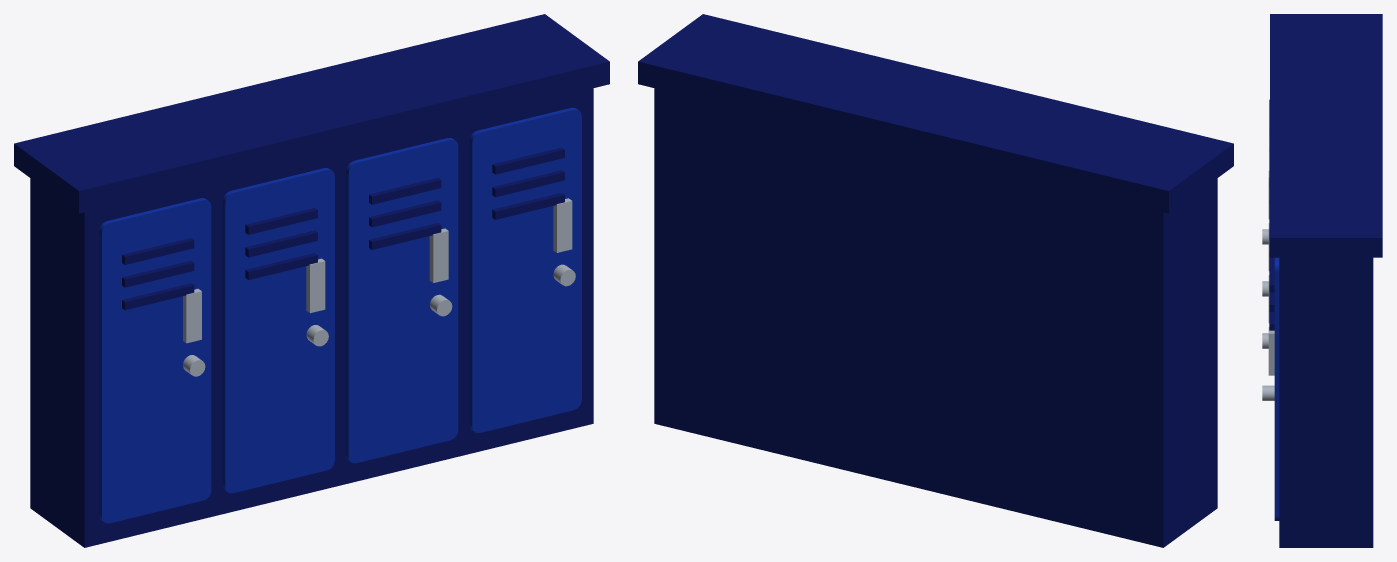
File: lockers.obj
The picture shows the model from 3 angles, left to right: view 1: azimuth 30°, elevation 25°; view 2: azimuth 150°, elevation 25°; view 3: azimuth 270°, elevation 25°; orthographic projection. The views are drawn at different scales.
Parts seen in each view (by area): view 1: locker_shell, locker_top, locker_door_1, locker_door_2, locker_door_3, locker_door_0, handle_1, handle_2, handle_3, handle_0, vent_2_1, vent_1_1 (+10 smaller); view 2: locker_shell, locker_top; view 3: locker_shell, locker_top, locker_door_3, handle_3, vent_3_0, lock_3.
Part boxes in pixels (bbox=[...]): locker_shell: bbox=[30, 88, 593, 547]; locker_top: bbox=[14, 14, 609, 213]; locker_door_1: bbox=[222, 168, 334, 493]; locker_door_2: bbox=[346, 138, 458, 463]; locker_door_3: bbox=[469, 107, 581, 432]; locker_door_0: bbox=[99, 198, 211, 523]; handle_1: bbox=[306, 258, 325, 313]; handle_2: bbox=[429, 228, 448, 282]; handle_3: bbox=[553, 198, 572, 252]; handle_0: bbox=[183, 288, 201, 343]; vent_2_1: bbox=[369, 200, 441, 227]; vent_1_1: bbox=[245, 230, 317, 257]; locker_shell: bbox=[654, 88, 1217, 547]; locker_top: bbox=[638, 14, 1233, 213]; locker_shell: bbox=[1279, 257, 1373, 547]; locker_top: bbox=[1270, 14, 1382, 257]; locker_door_3: bbox=[1274, 257, 1279, 520]; handle_3: bbox=[1268, 327, 1274, 375]; vent_3_0: bbox=[1269, 256, 1274, 292]; lock_3: bbox=[1262, 385, 1274, 400].
Bounding box in the file's own units: 3.44 × 2.25 × 0.78.
